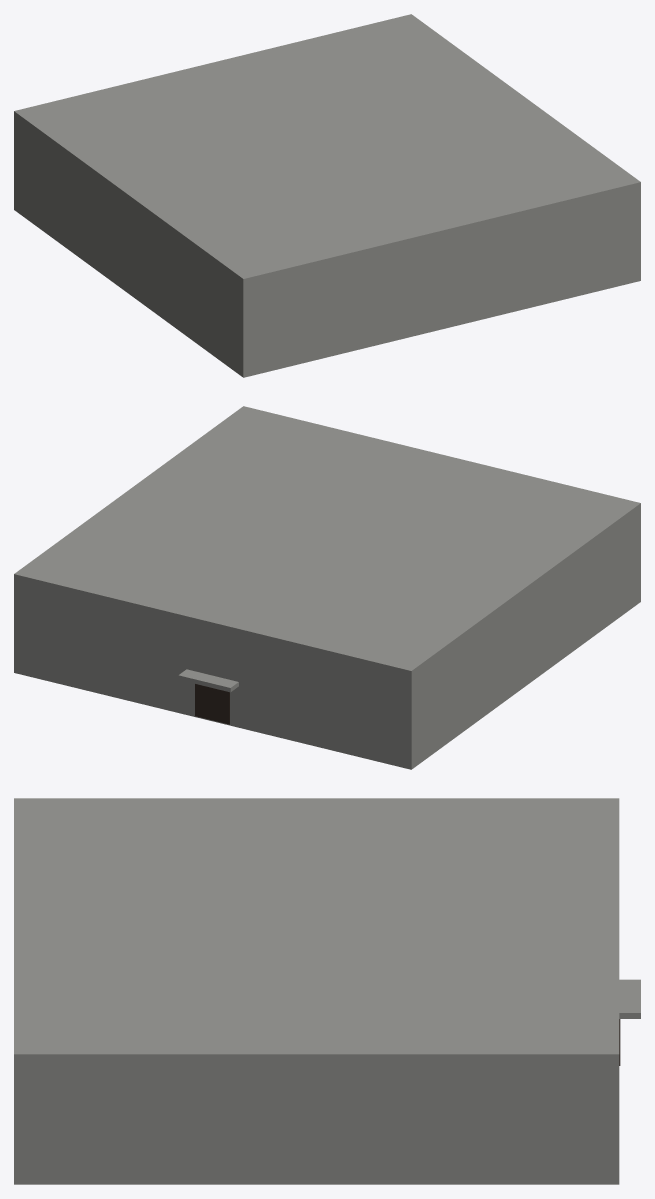
File: tw_slab_32_base_lod1.glb
The picture shows the model from 3 angles, top to bottom: view 1: azimuth 30°, elevation 25°; view 2: azimuth 150°, elevation 25°; view 3: azimuth 270°, elevation 25°; orthographic projection. The views are drawn at different scales.
Visible parts, largest first — view 1: tw_slab_32_base_lod1; view 2: tw_slab_32_base_lod1; view 3: tw_slab_32_base_lod1.
Boxes of the visible parts, bbox=[...] form: tw_slab_32_base_lod1: bbox=[14, 14, 640, 377]; tw_slab_32_base_lod1: bbox=[14, 406, 640, 769]; tw_slab_32_base_lod1: bbox=[14, 798, 640, 1184].
Bounding box in the file's own units: 32 × 7.6 × 33.15.
1 material, 1 textured.
